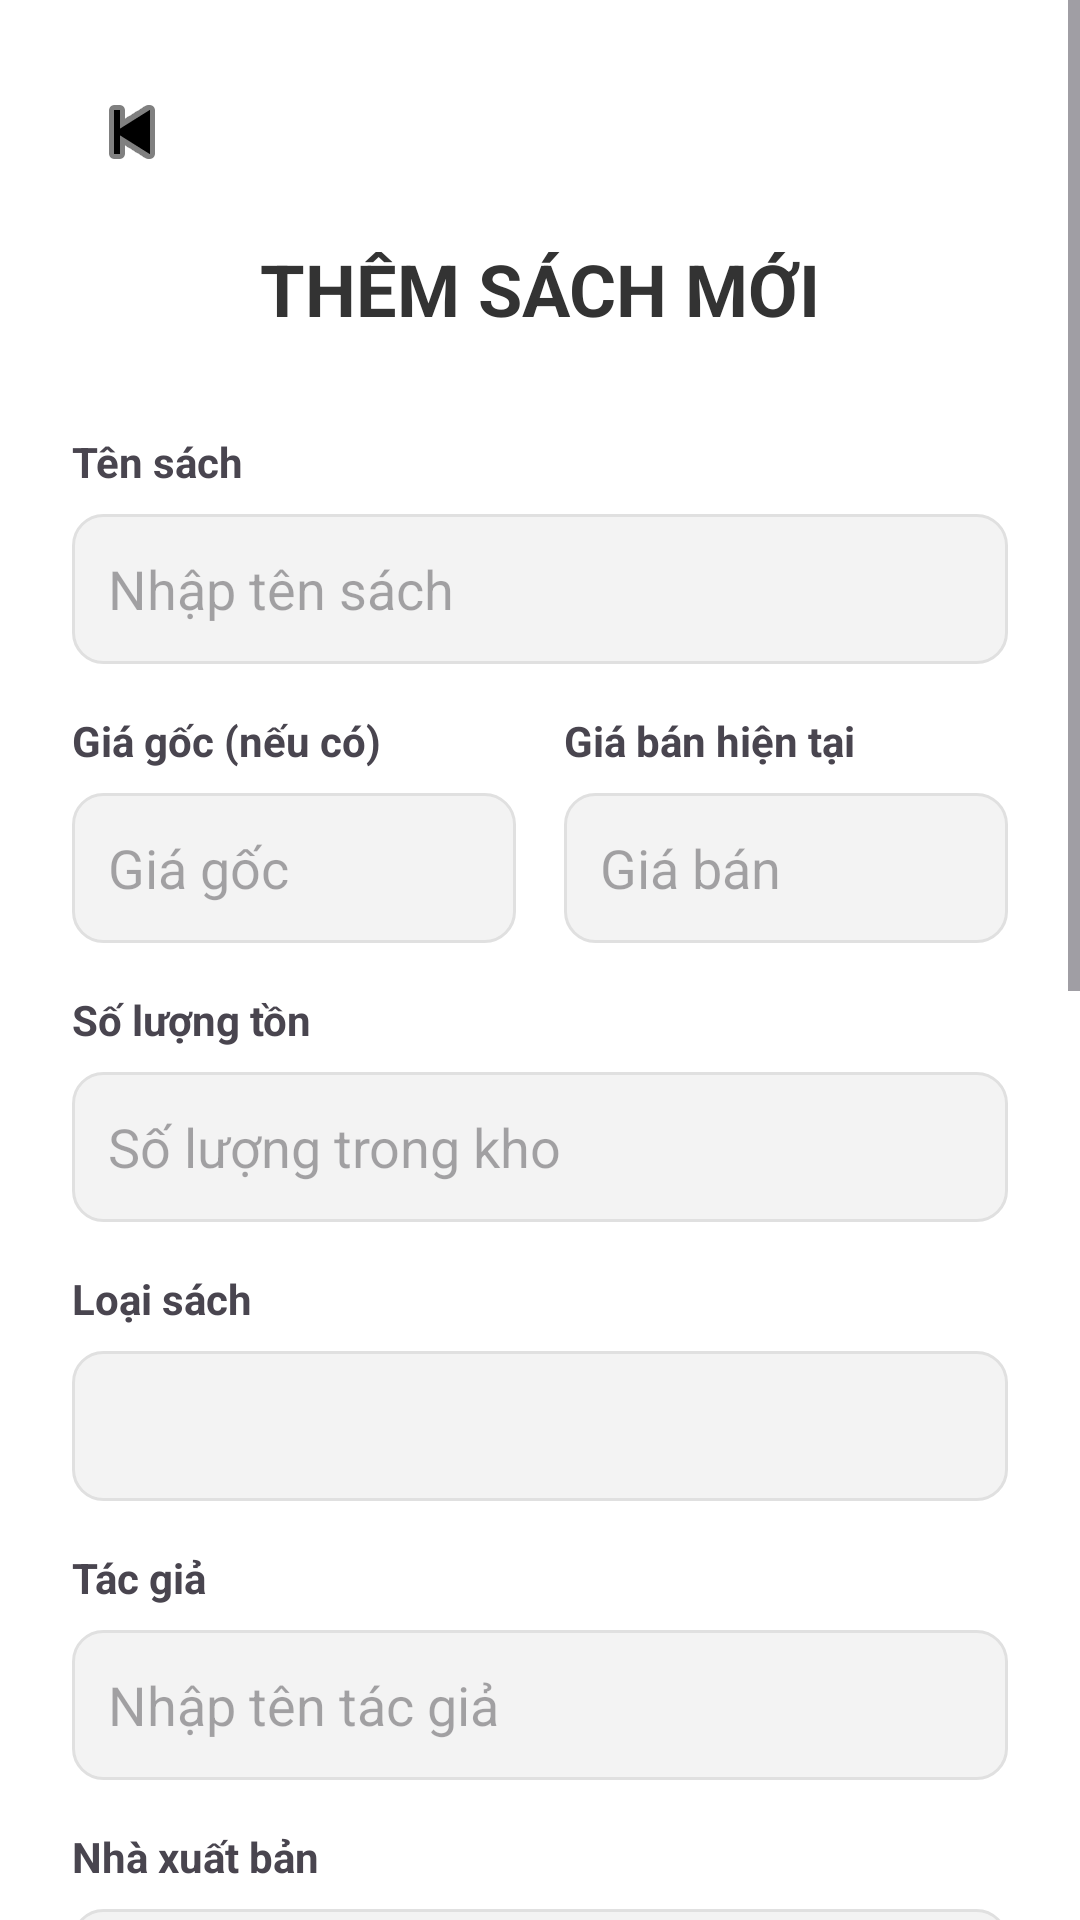

Where icons sit on this 1080 x 1920 app screen, as box=[x1, y1, x2, y2]:
previous: box=[109, 105, 155, 159]
